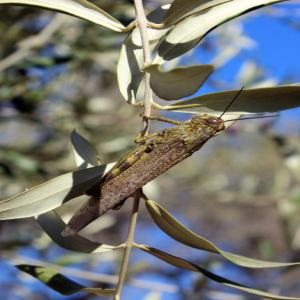locust: (76, 94, 249, 219)
